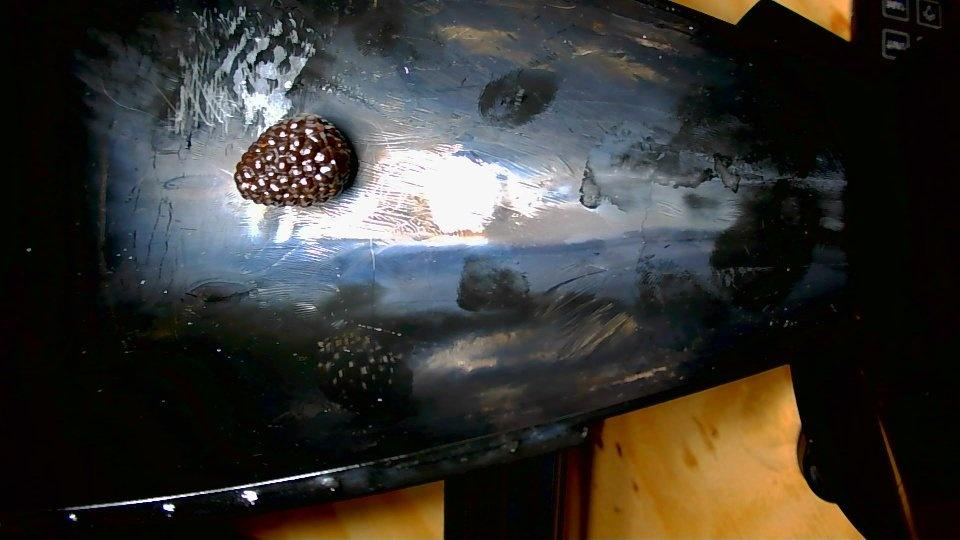berry: (0, 0, 255, 255)
